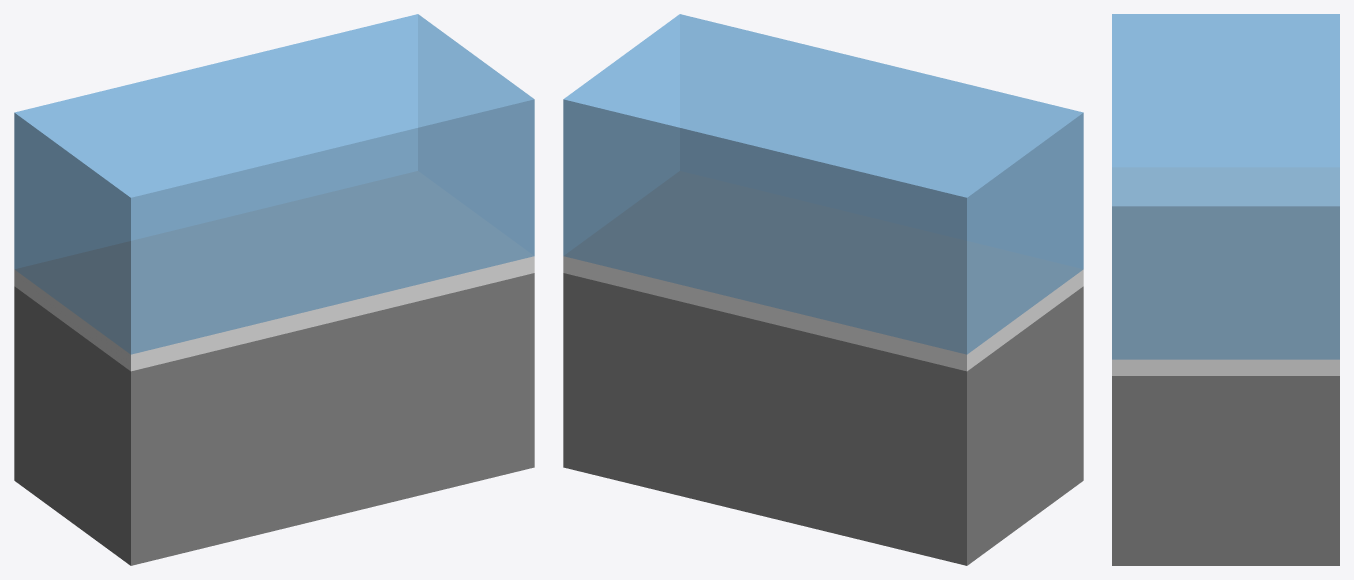
Rendered from Podium_C.FBX.
3 views of the same model, side by side, from view 1: azimuth 30°, elevation 25°; view 2: azimuth 150°, elevation 25°; view 3: azimuth 270°, elevation 25° (orthographic). The views are drawn at different scales.
Visible parts, largest first — view 1: Wood, Glass, Museum-Chrome; view 2: Wood, Glass, Museum-Chrome; view 3: Wood, Glass, Museum-Chrome.
Part boxes in pixels (x1,y1,x2,y2): Wood: [14, 171, 534, 565]; Glass: [14, 14, 534, 354]; Museum-Chrome: [14, 256, 534, 371]; Wood: [563, 171, 1083, 565]; Glass: [563, 14, 1083, 354]; Museum-Chrome: [563, 256, 1083, 371]; Wood: [1112, 167, 1339, 565]; Glass: [1112, 14, 1339, 359]; Museum-Chrome: [1112, 359, 1339, 375].
Size of the model in its own units: 40 by 34.85 by 20.
